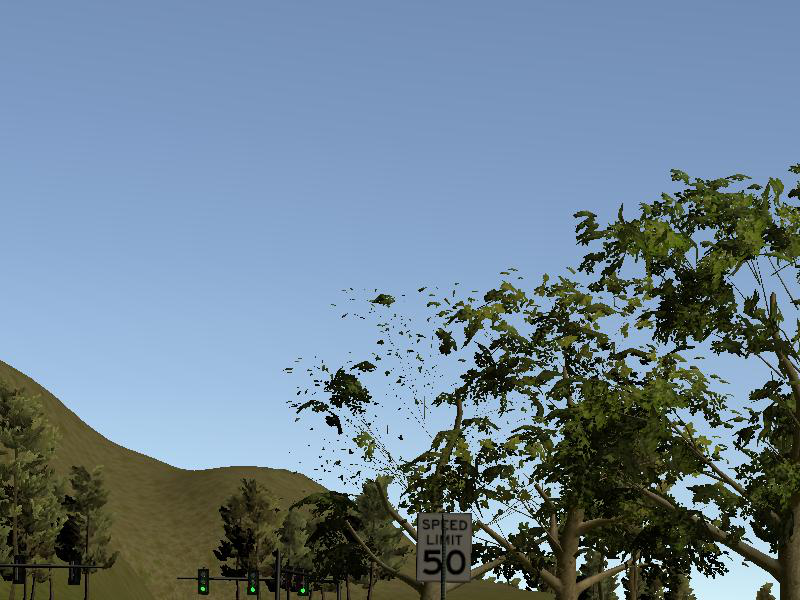green: (297, 567, 308, 595), (198, 568, 208, 595), (249, 568, 259, 595)
